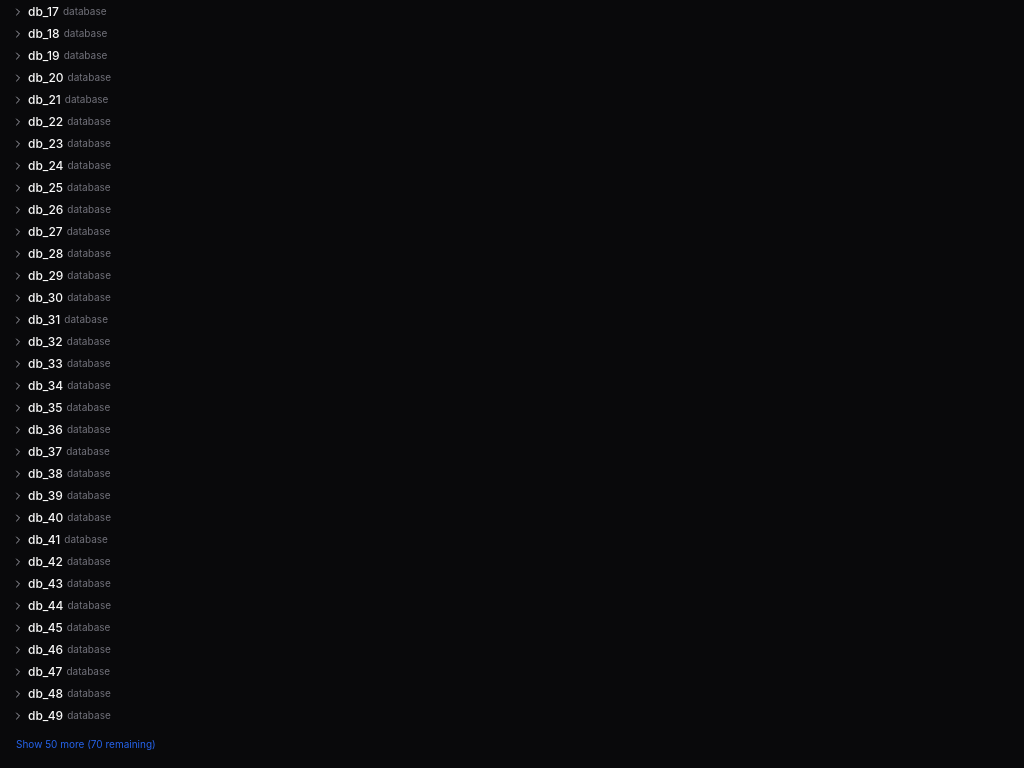
it: SchemaExplorer database discovery (PRF-01) › bounds rendering of very large database lists
(page scrolled)
Click the button "Show 50 more (70 remaining)" at (86, 744), box [12,737,160,752]
(page scrolled)
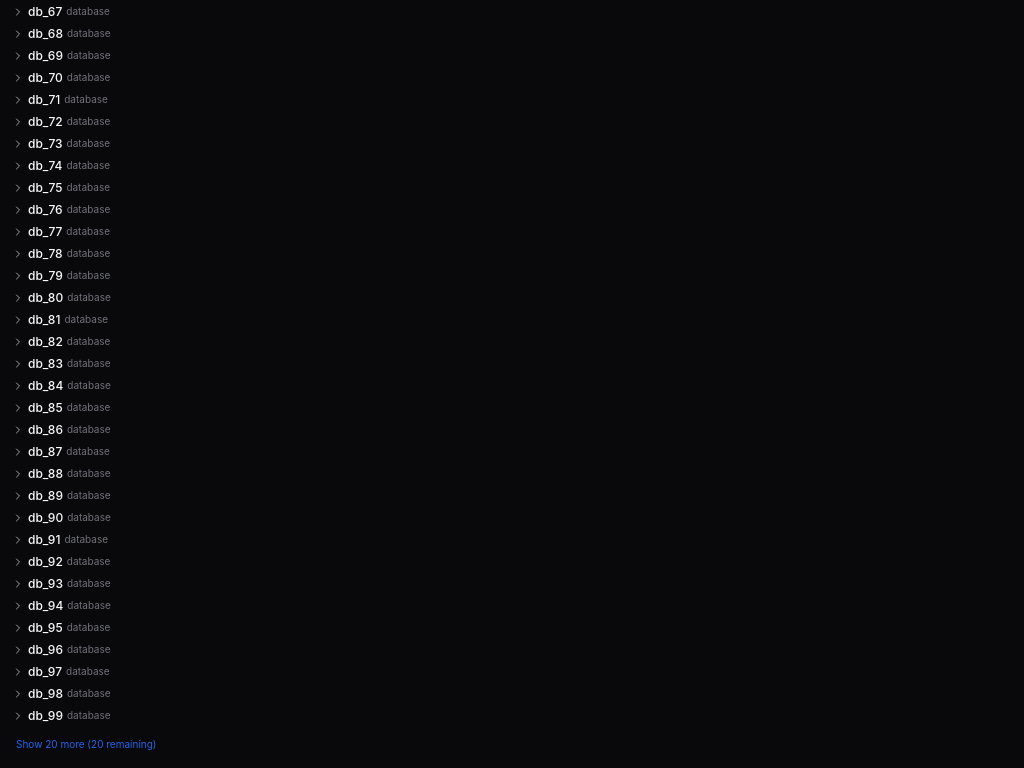
Now the button "db_99 database" is shown, box [12,708,992,724]
